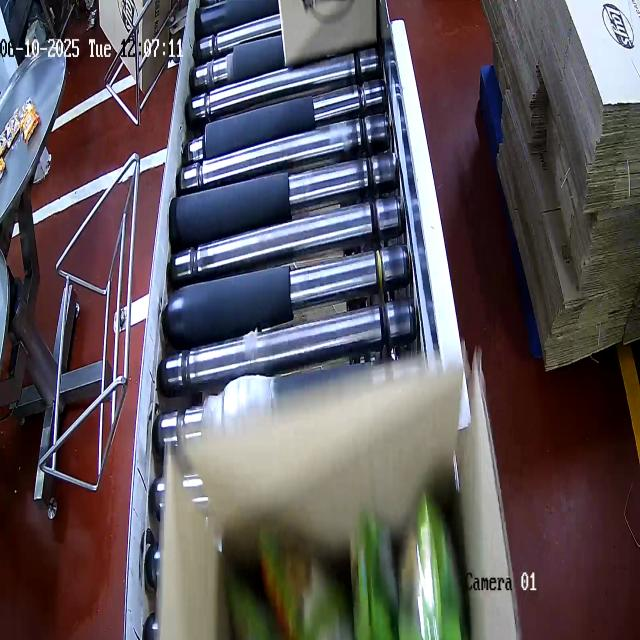YOGURT_HERB: (227, 519, 467, 640)
